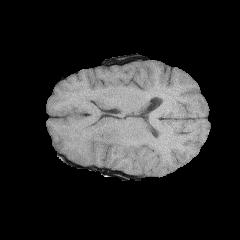glioma: (63, 118, 122, 167)
